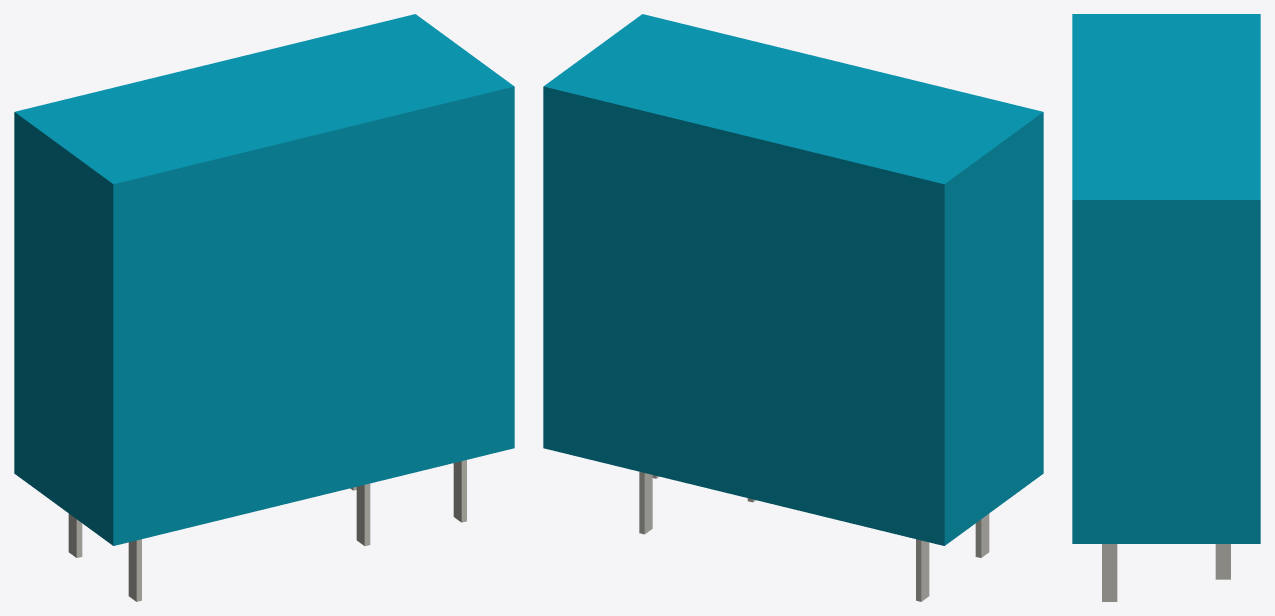
Rendered from kc-relay_spdt_finder_40.31.glb.
3 renders of one model, left to right at view 1: azimuth 30°, elevation 25°; view 2: azimuth 150°, elevation 25°; view 3: azimuth 270°, elevation 25°, orthographic. The views are drawn at different scales.
Parts seen in each view (by area): view 1: 0_0.3333333333333333_0.5_0, 0.6666666666666666_0.6666666666666666_0.5833333333333334_0.8; view 2: 0_0.3333333333333333_0.5_0, 0.6666666666666666_0.6666666666666666_0.5833333333333334_0.8; view 3: 0_0.3333333333333333_0.5_0, 0.6666666666666666_0.6666666666666666_0.5833333333333334_0.8.
Boxes of the visible parts, x1,y1,x2,y2 form: 0_0.3333333333333333_0.5_0: [14, 14, 514, 545]; 0.6666666666666666_0.6666666666666666_0.5833333333333334_0.8: [68, 460, 466, 601]; 0_0.3333333333333333_0.5_0: [543, 14, 1043, 545]; 0.6666666666666666_0.6666666666666666_0.5833333333333334_0.8: [639, 471, 989, 601]; 0_0.3333333333333333_0.5_0: [1072, 14, 1260, 543]; 0.6666666666666666_0.6666666666666666_0.5833333333333334_0.8: [1102, 544, 1230, 601].
Size of the model in its own units: 2.9 by 3.03 by 1.24.
